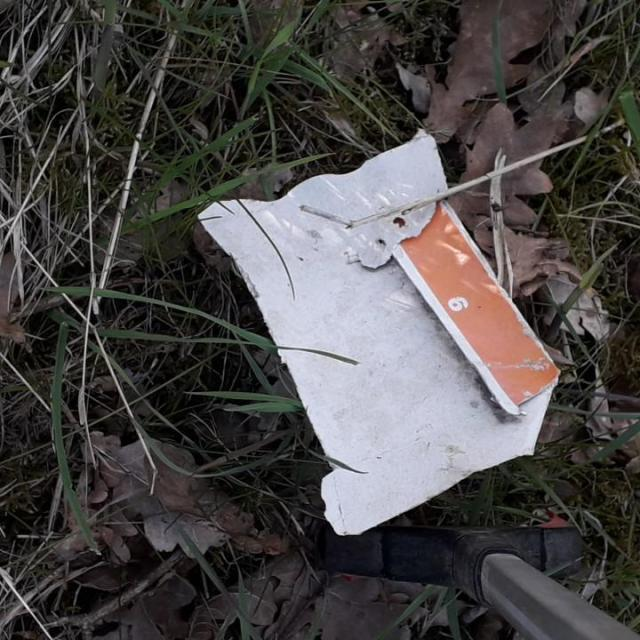Paper: (191, 125, 561, 541)
